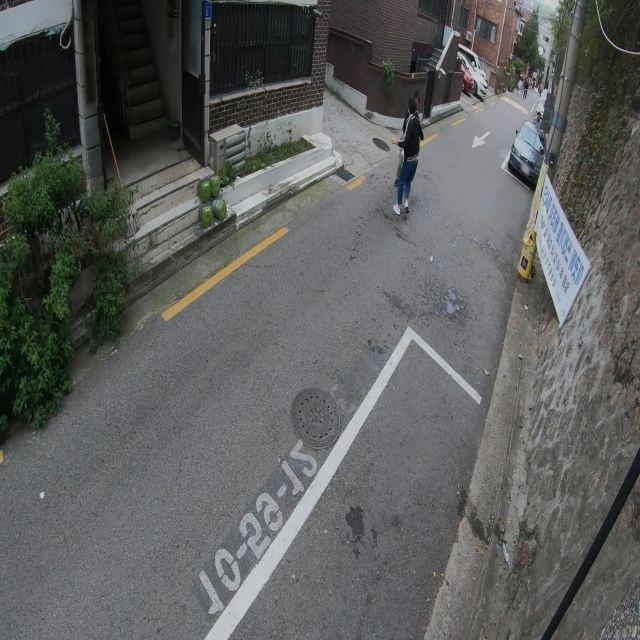fight: (392, 94, 424, 215)
